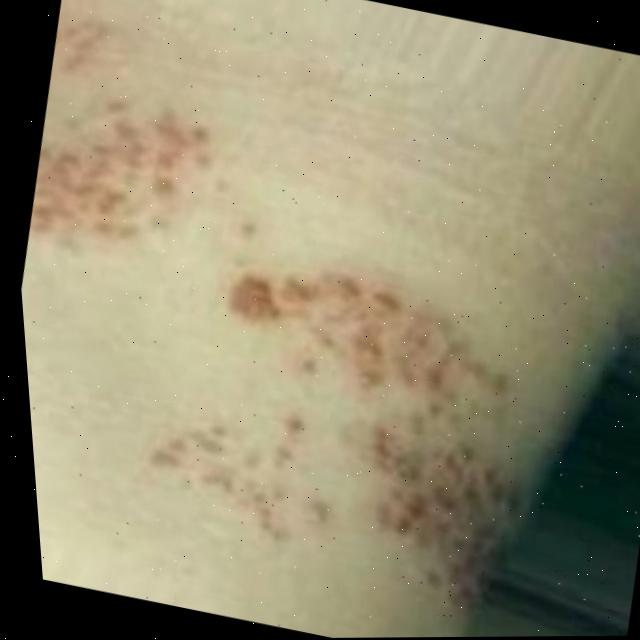Shingles: (152, 243, 563, 626), (9, 1, 236, 277)
